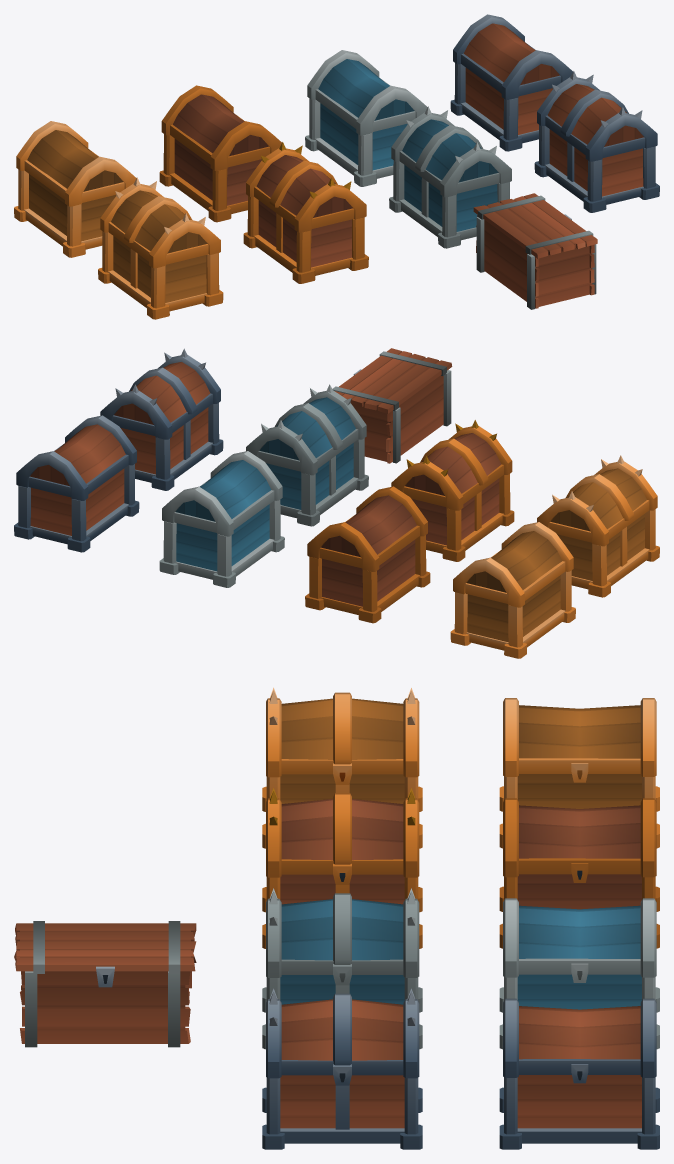
File: Treasure.fbx
3 renders of one model, top to bottom at view 1: azimuth 30°, elevation 25°; view 2: azimuth 150°, elevation 25°; view 3: azimuth 270°, elevation 25°, orthographic. The views are drawn at different scales.
Visible parts, largest first — view 1: Treasure_Spikes_lid.001, Treasure_Spikes_lid, Treasure_Spikes_lid.003, Treasure_Spikes_lid.002, Treasure_Basic, Treasure_Spikes.002, Treasure_Spikes, Treasure_Spikes.003, Treasure_lid, Treasure_lid.002, Treasure_lid.003, Treasure_lid.001 (+6 smaller); view 2: Treasure_Spikes_lid.002, Treasure_Spikes_lid, Treasure_Spikes_lid.001, Treasure_Spikes_lid.003, Treasure.002, Treasure.001, Treasure, Treasure.003, Treasure_lid.003, Treasure_lid.002, Treasure_lid, Treasure_lid.001 (+6 smaller); view 3: Treasure_Basic, Treasure_Spikes_lid, Treasure_Spikes_lid.003, Treasure_Spikes_lid.002, Treasure_Spikes_lid.001, Treasure.001, Treasure_lid, Treasure_Spikes, Treasure_lid.002, Treasure_lid.001, Treasure_lid.003, Treasure_Basic_lid (+6 smaller).
Part boxes in pixels (<box>): Treasure_Spikes_lid.001: <box>391,106,511,197</box>; Treasure_Spikes_lid: <box>537,71,657,161</box>; Treasure_Spikes_lid.003: <box>100,177,220,268</box>; Treasure_Spikes_lid.002: <box>246,142,366,232</box>; Treasure_Basic: <box>476,215,596,309</box>; Treasure_Spikes.002: <box>243,196,368,283</box>; Treasure_Spikes: <box>534,125,659,212</box>; Treasure_Spikes.003: <box>98,231,223,319</box>; Treasure_lid: <box>161,85,281,170</box>; Treasure_lid.002: <box>307,50,427,135</box>; Treasure_lid.003: <box>16,121,136,206</box>; Treasure_lid.001: <box>453,14,572,99</box>; Treasure_Spikes_lid.002: <box>391,420,512,510</box>; Treasure_Spikes_lid: <box>100,348,220,439</box>; Treasure_Spikes_lid.001: <box>246,384,366,475</box>; Treasure_Spikes_lid.003: <box>537,455,657,546</box>; Treasure.002: <box>159,500,284,587</box>; Treasure.001: <box>14,464,139,552</box>; Treasure: <box>305,535,430,623</box>; Treasure.003: <box>450,570,575,658</box>; Treasure_lid.003: <box>453,522,573,607</box>; Treasure_lid.002: <box>162,451,282,536</box>; Treasure_lid: <box>307,486,427,571</box>; Treasure_lid.001: <box>16,415,136,500</box>; Treasure_Basic: <box>20,971,191,1047</box>; Treasure_Spikes_lid: <box>266,988,419,1085</box>; Treasure_Spikes_lid.003: <box>266,687,419,784</box>; Treasure_Spikes_lid.002: <box>266,788,419,884</box>; Treasure_Spikes_lid.001: <box>266,888,419,985</box>; Treasure.001: <box>499,1075,659,1149</box>; Treasure_lid: <box>503,798,656,882</box>; Treasure_Spikes: <box>262,1075,422,1149</box>; Treasure_lid.002: <box>503,898,656,982</box>; Treasure_lid.001: <box>503,998,656,1083</box>; Treasure_lid.003: <box>503,698,656,782</box>; Treasure_Basic_lid: <box>14,921,196,987</box>.
Size of the model in its own units: 349 by 62.77 by 272.
